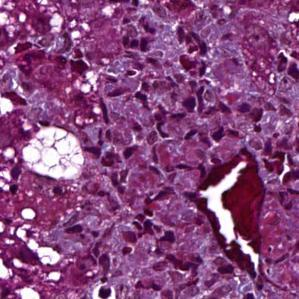ballooning: (20, 123, 87, 184)
